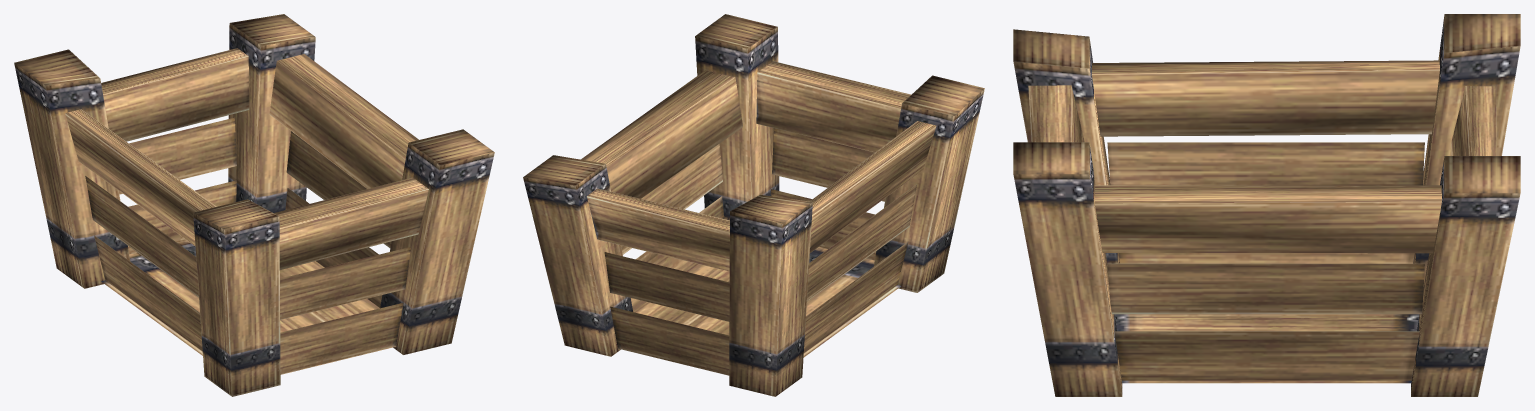
Rendered from crate01.obj.
The picture shows the model from 3 angles, left to right: view 1: azimuth 30°, elevation 25°; view 2: azimuth 150°, elevation 25°; view 3: azimuth 270°, elevation 25°; orthographic projection. The views are drawn at different scales.
Parts seen in each view (by area): view 1: crate01; view 2: crate01; view 3: crate01.
Boxes of the visible parts, box(x1,y1,x2,y2) form: crate01: box(14, 14, 494, 396); crate01: box(523, 14, 984, 396); crate01: box(1013, 14, 1520, 396).
Size of the model in its own units: 1.1 by 0.7719 by 1.48.
Materials: 1 (1 with a texture image).
